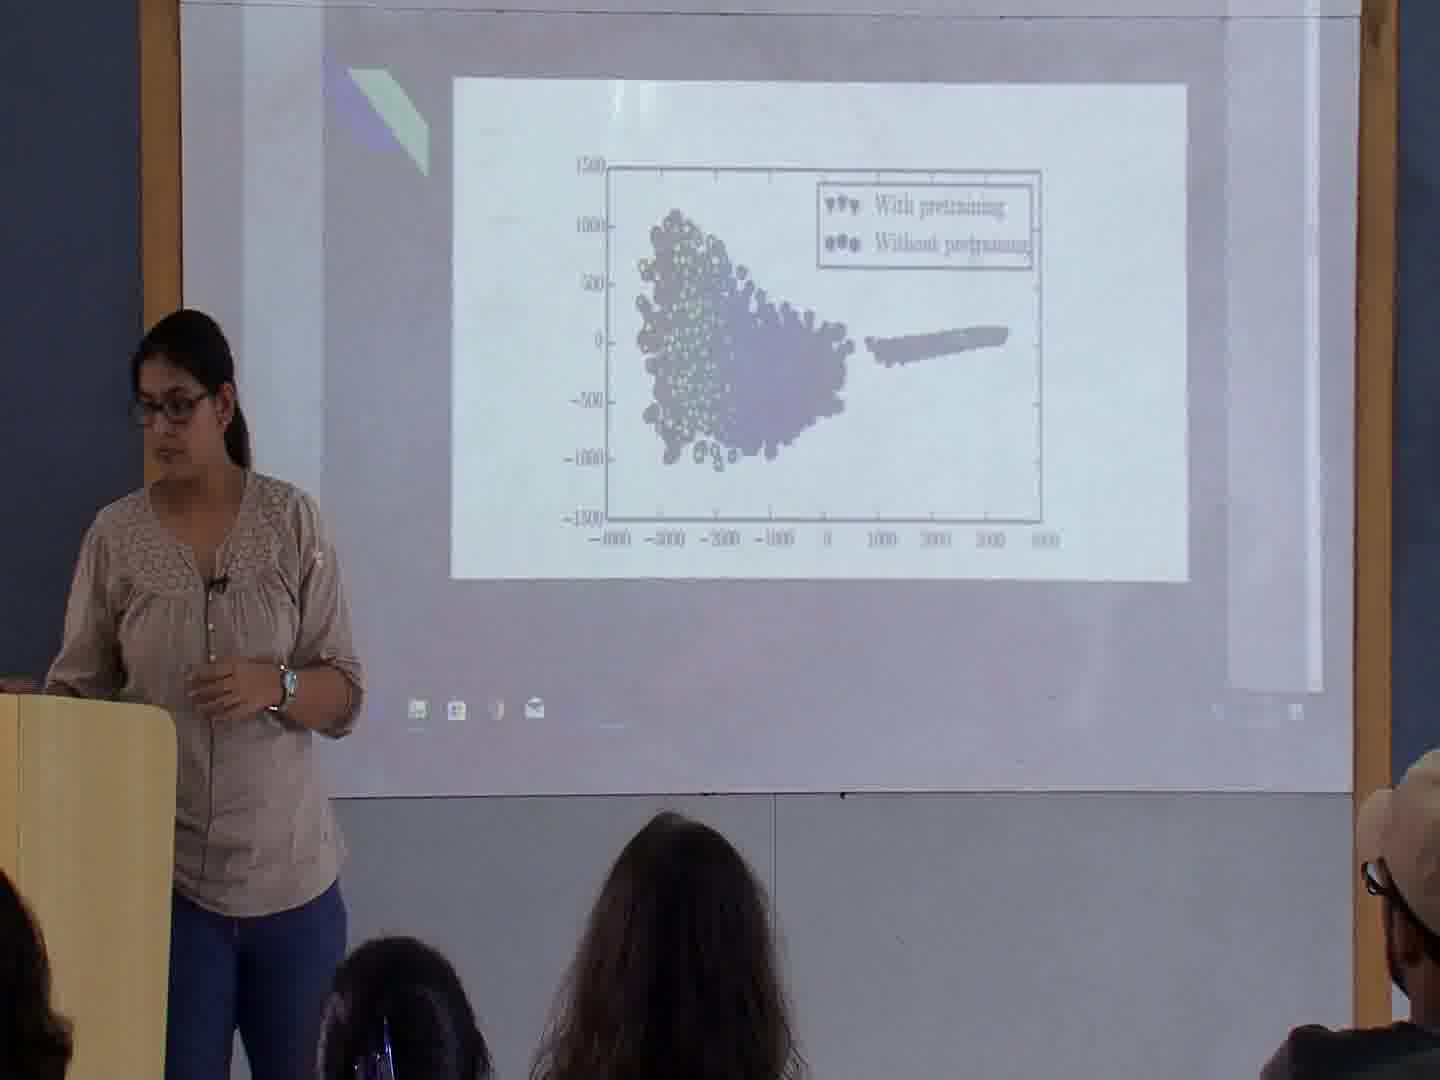slide: (242, 1, 1320, 741)
